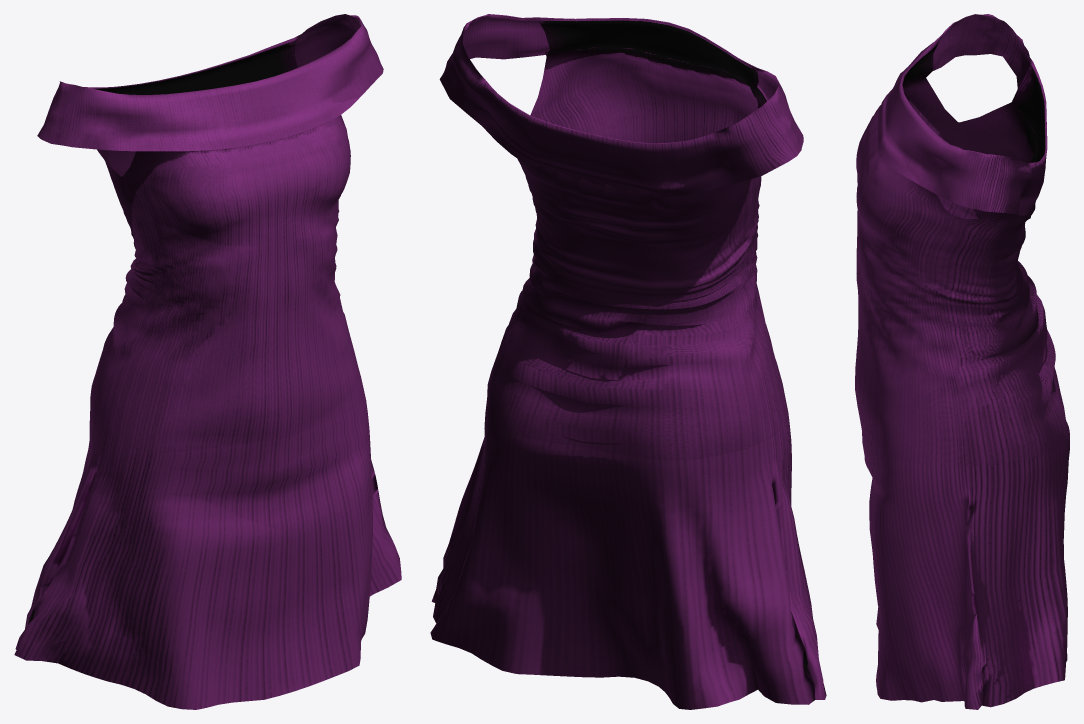
File: OffShoulderDress.glb
3 renders of one model, left to right at view 1: azimuth 30°, elevation 25°; view 2: azimuth 150°, elevation 25°; view 3: azimuth 270°, elevation 25°, orthographic. The views are drawn at different scales.
Parts seen in each view (by area): view 1: Off-Shoulder Dress.001; view 2: Off-Shoulder Dress.001; view 3: Off-Shoulder Dress.001.
Boxes of the visible parts, box(x1,y1,x2,y2) form: Off-Shoulder Dress.001: box(14, 14, 401, 709); Off-Shoulder Dress.001: box(430, 14, 826, 709); Off-Shoulder Dress.001: box(855, 14, 1069, 709).
Bounding box in the file's own units: 0.5902 × 0.9089 × 0.3023.
1 material, 1 textured.
